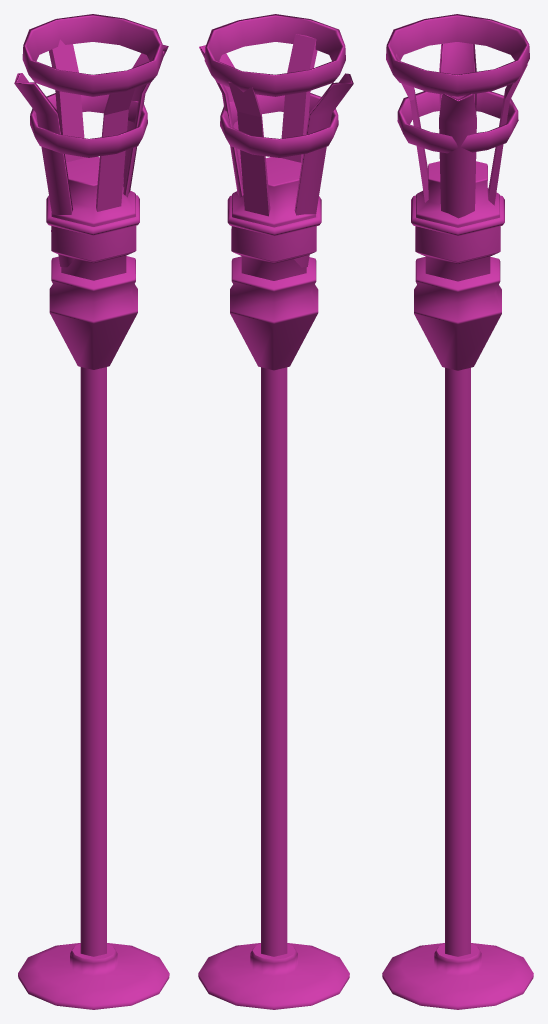
Rendered from Torch_02_Lod0.fbx.
3 renders of one model, left to right at view 1: azimuth 30°, elevation 25°; view 2: azimuth 150°, elevation 25°; view 3: azimuth 270°, elevation 25°, orthographic.
Visible parts, largest first — view 1: Torch_02_Lod0; view 2: Torch_02_Lod0; view 3: Torch_02_Lod0.
Part boxes in pixels (x1,y1,x2,y2): Torch_02_Lod0: (14,14,169,1009); Torch_02_Lod0: (198,14,353,1009); Torch_02_Lod0: (382,14,533,1009).
Size of the model in its own units: 27.37 by 158 by 23.25.
